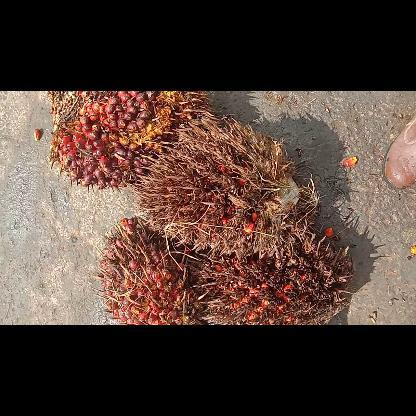TBS masak: (47, 91, 215, 193), (92, 218, 206, 324)
Terlalu masak: (130, 115, 314, 258), (194, 234, 352, 324)
